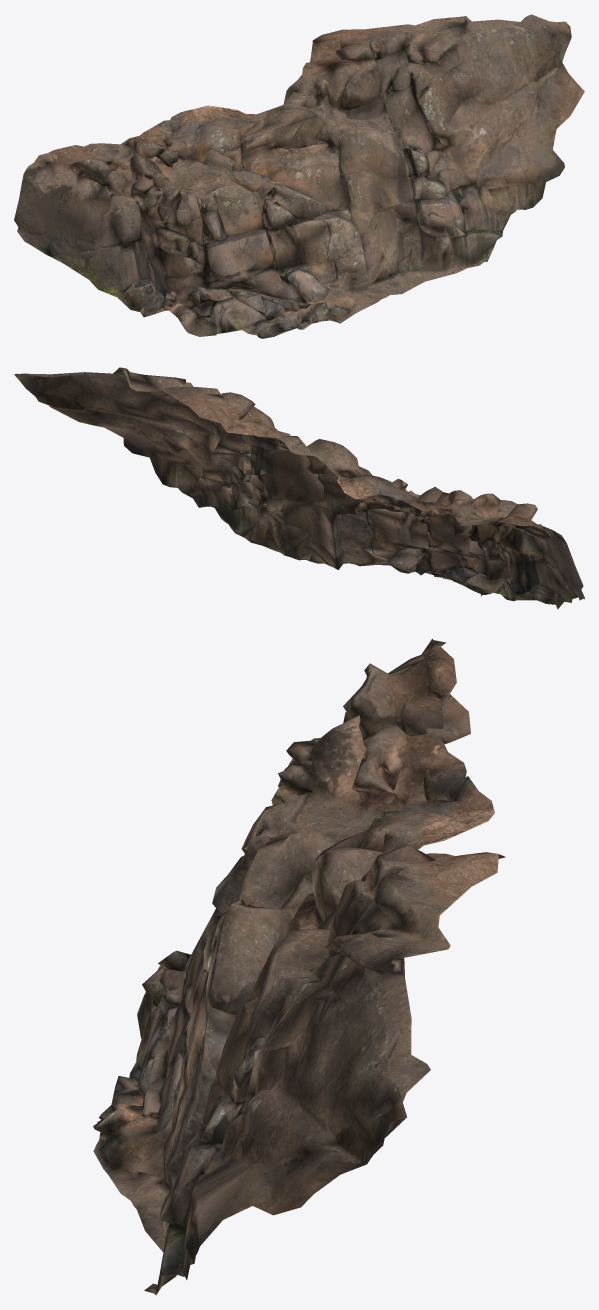
File: namaqualand_cliff_02.glb
3 renders of one model, top to bottom at view 1: azimuth 30°, elevation 25°; view 2: azimuth 150°, elevation 25°; view 3: azimuth 270°, elevation 25°, orthographic. The views are drawn at different scales.
Parts seen in each view (by area): view 1: drone_rock_02_LOD0; view 2: drone_rock_02_LOD0; view 3: drone_rock_02_LOD0.
Part boxes in pixels (x1,y1,x2,y2): drone_rock_02_LOD0: [14, 14, 584, 338]; drone_rock_02_LOD0: [14, 367, 584, 609]; drone_rock_02_LOD0: [93, 638, 505, 1295].
Size of the model in its own units: 20.2 by 7.17 by 6.58.
Materials: 1 (1 with a texture image).
